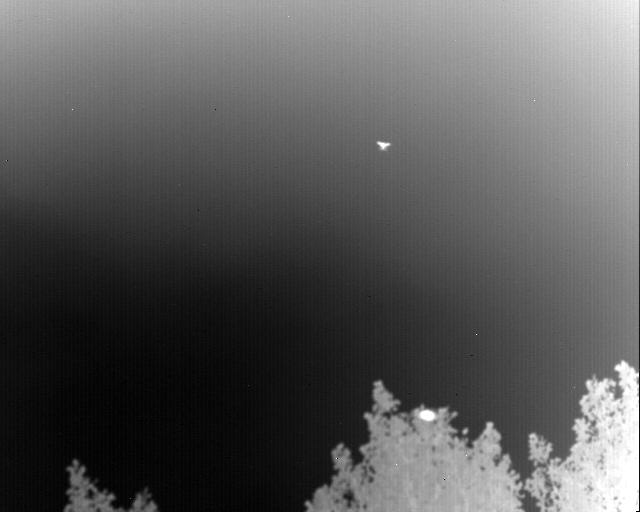plane: (376, 139, 391, 150)
